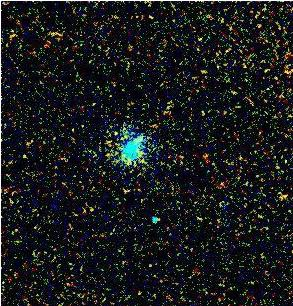star: (99, 117, 129, 147)
